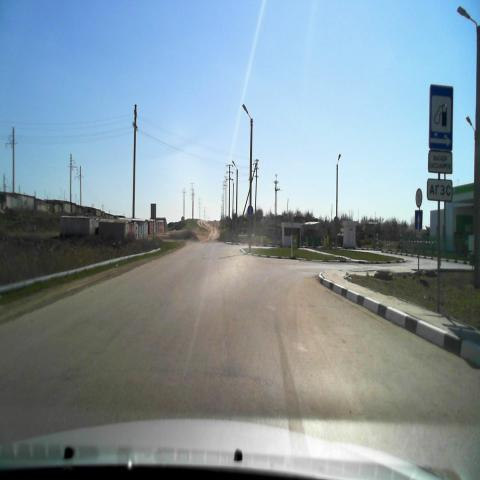3_24: (415, 189, 423, 207)
4_1_1: (248, 205, 253, 217)
5_5: (414, 211, 422, 228)
7_3: (430, 82, 454, 152)
